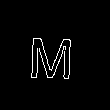M_N: (31, 29, 79, 81)
